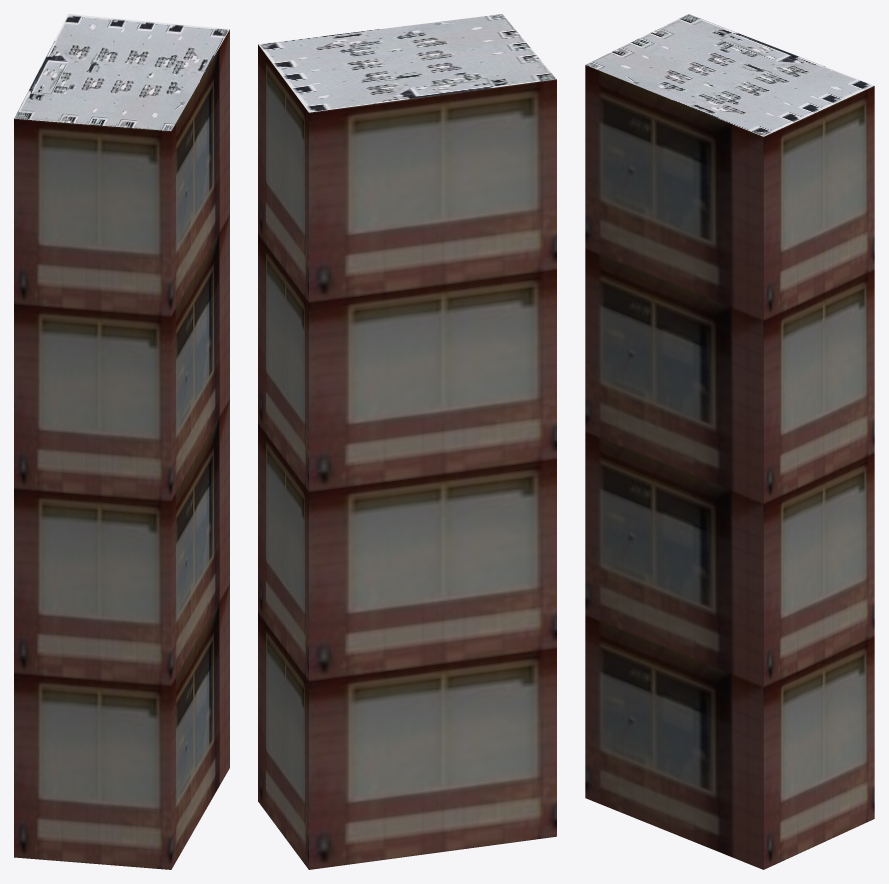
Rendered from ResTex__3247.fbx.
3 views of the same model, side by side, from view 1: azimuth 30°, elevation 25°; view 2: azimuth 150°, elevation 25°; view 3: azimuth 270°, elevation 25° (orthographic). The views are drawn at different scales.
Parts seen in each view (by area): view 1: CityEngineMaterial_13_m, CityEngineMaterial_m; view 2: CityEngineMaterial_13_m, CityEngineMaterial_m; view 3: CityEngineMaterial_13_m, CityEngineMaterial_m.
Boxes of the visible parts, <box> form: CityEngineMaterial_13_m: <box>14,29,229,869</box>; CityEngineMaterial_m: <box>14,14,229,130</box>; CityEngineMaterial_13_m: <box>258,44,556,869</box>; CityEngineMaterial_m: <box>258,14,556,112</box>; CityEngineMaterial_13_m: <box>585,65,874,869</box>; CityEngineMaterial_m: <box>585,14,874,136</box>.
Bounding box in the file's own units: 4.31 × 12 × 4.29.
Materials: 2 (2 with a texture image).
